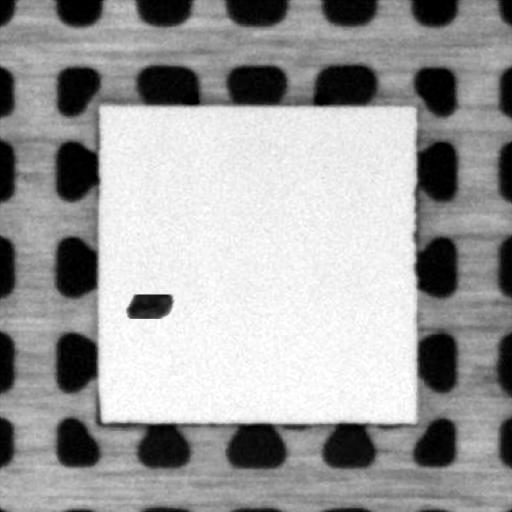DIE_INK: (115, 294, 181, 318)
